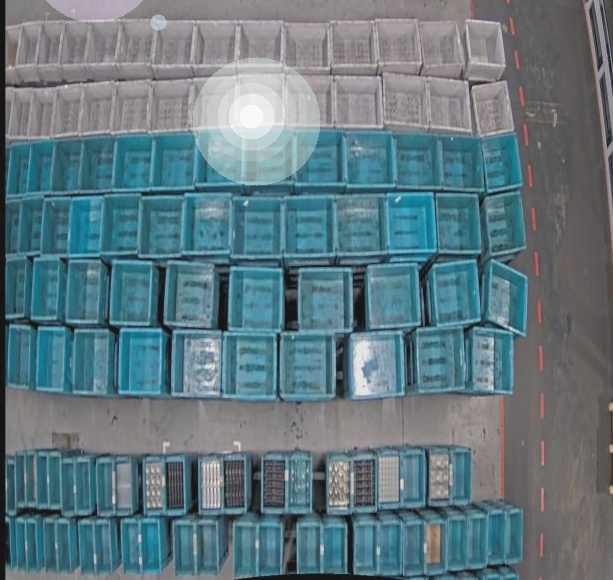Box: (365, 262, 423, 330), (227, 264, 284, 330), (222, 330, 276, 399), (281, 332, 337, 398), (350, 331, 406, 397), (298, 267, 354, 333), (165, 260, 217, 330), (414, 322, 465, 393), (430, 260, 482, 327), (486, 258, 529, 339), (334, 193, 387, 258), (467, 325, 516, 395), (435, 189, 484, 259), (229, 197, 284, 258), (385, 192, 438, 255), (282, 197, 336, 258), (244, 126, 294, 191), (173, 330, 222, 396), (294, 127, 346, 188), (437, 133, 487, 195), (482, 191, 528, 258), (183, 192, 230, 257), (425, 77, 474, 139), (344, 129, 394, 189), (392, 132, 442, 192), (140, 194, 186, 258), (383, 71, 429, 135), (196, 130, 245, 190), (110, 260, 155, 325), (119, 327, 162, 395), (374, 17, 423, 75), (333, 76, 383, 132), (330, 17, 378, 75), (420, 17, 466, 77), (236, 72, 284, 129), (481, 132, 524, 195), (151, 130, 196, 190), (100, 194, 142, 258), (471, 80, 516, 139), (284, 17, 332, 72), (286, 72, 333, 128), (194, 17, 238, 75), (191, 76, 235, 133), (116, 17, 156, 79), (237, 16, 283, 69), (152, 18, 194, 76), (74, 330, 111, 395), (466, 20, 505, 81), (150, 77, 191, 133), (67, 259, 103, 322), (112, 82, 152, 135), (114, 135, 152, 189), (69, 197, 102, 259), (79, 136, 116, 191), (78, 82, 116, 135), (32, 257, 63, 321), (38, 327, 68, 391), (59, 21, 90, 82), (88, 19, 118, 79), (51, 84, 83, 139), (7, 324, 33, 391), (51, 137, 82, 193), (34, 20, 62, 81), (426, 441, 452, 505), (401, 446, 426, 510), (42, 197, 70, 254), (26, 137, 54, 193), (327, 452, 352, 514), (17, 198, 44, 254), (16, 22, 41, 82), (262, 452, 286, 514), (198, 456, 223, 514), (222, 452, 247, 510), (288, 453, 312, 513), (9, 86, 35, 141), (5, 255, 28, 317), (354, 520, 379, 577), (163, 453, 186, 514), (28, 87, 56, 137), (378, 448, 401, 508), (449, 447, 472, 507), (194, 520, 220, 573), (296, 522, 323, 573), (233, 522, 257, 579), (355, 453, 378, 512), (142, 455, 164, 515), (379, 520, 402, 577), (96, 456, 117, 518), (258, 520, 282, 574), (138, 519, 161, 573), (173, 521, 196, 575), (425, 520, 448, 574), (7, 143, 30, 197), (120, 519, 142, 574), (403, 521, 425, 576), (115, 455, 135, 514), (324, 523, 346, 574), (447, 516, 467, 570), (78, 520, 97, 576), (94, 519, 112, 575), (507, 508, 525, 564), (62, 455, 78, 517), (487, 509, 505, 563), (469, 514, 487, 567), (55, 517, 72, 573), (43, 518, 59, 576), (5, 199, 21, 256), (48, 449, 63, 509), (6, 25, 21, 85), (77, 457, 92, 515), (5, 454, 18, 514), (26, 519, 40, 574), (27, 449, 39, 509), (15, 517, 28, 572), (38, 449, 49, 509), (16, 451, 28, 504), (5, 516, 14, 569)
